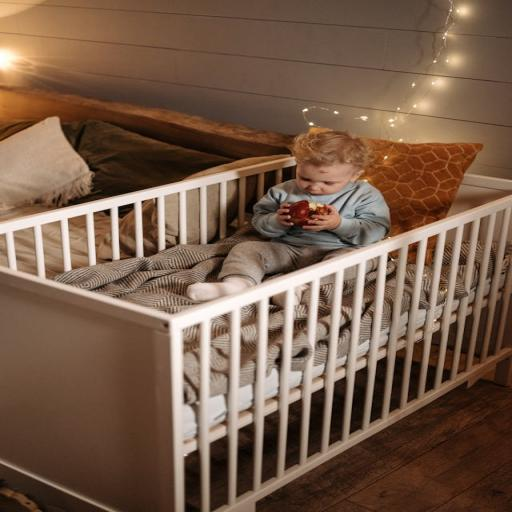baby: (187, 131, 390, 301)
crib: (0, 157, 511, 511)
